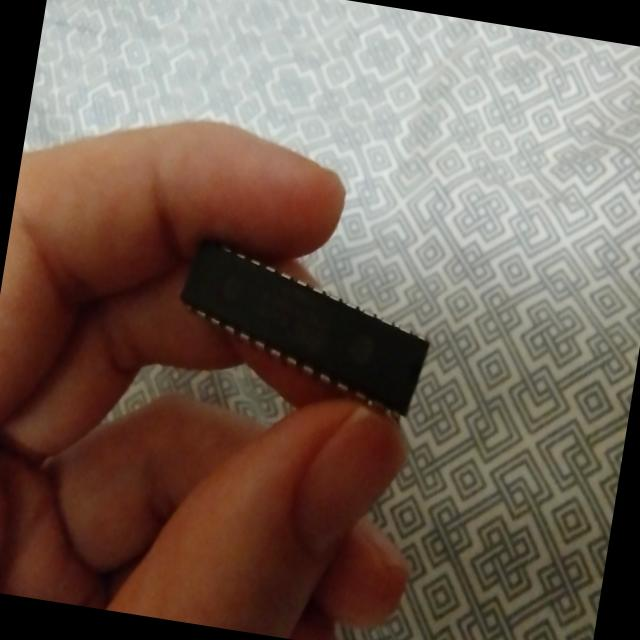atmega: (164, 233, 443, 426)
